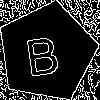B: (22, 27, 62, 77)
